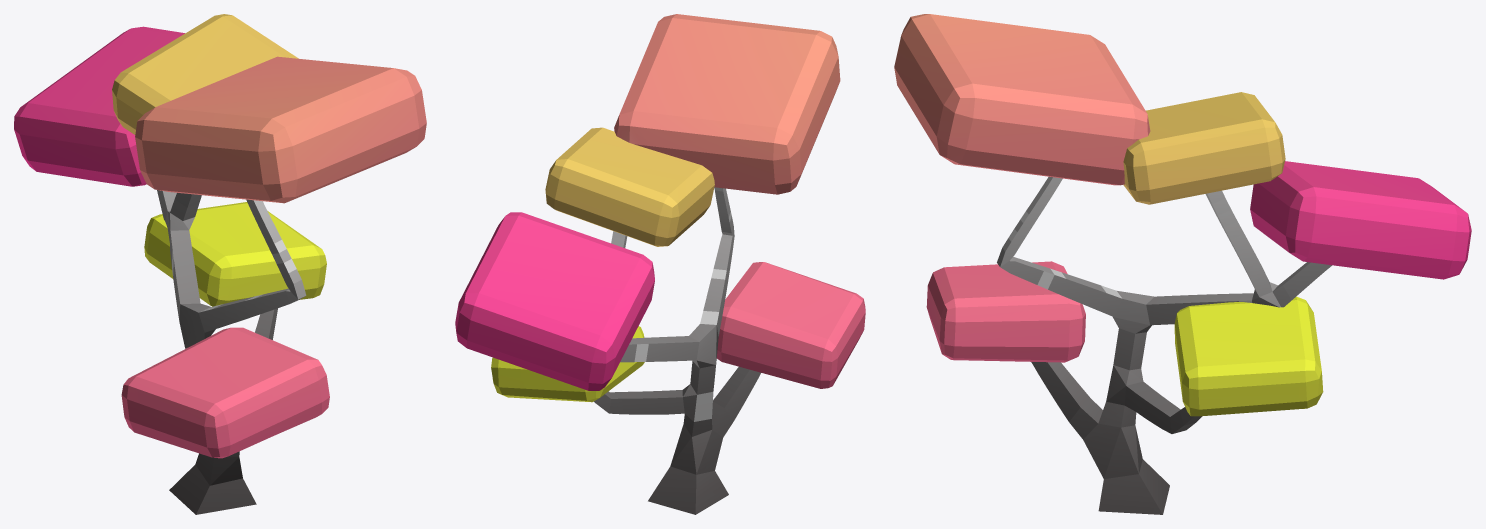
The picture shows the model from 3 angles, left to right: view 1: azimuth 30°, elevation 25°; view 2: azimuth 150°, elevation 25°; view 3: azimuth 270°, elevation 25°; orthographic projection. The views are drawn at different scales.
Visible parts, largest first — view 1: Object_1319; view 2: Object_1319; view 3: Object_1319.
Part boxes in pixels (x1,y1,x2,y2): Object_1319: (14, 14, 426, 514); Object_1319: (455, 14, 865, 514); Object_1319: (894, 14, 1471, 514).
Bounding box in the file's own units: 0.6621 × 1.09 × 1.22.
Materials: 1 (1 with a texture image).
